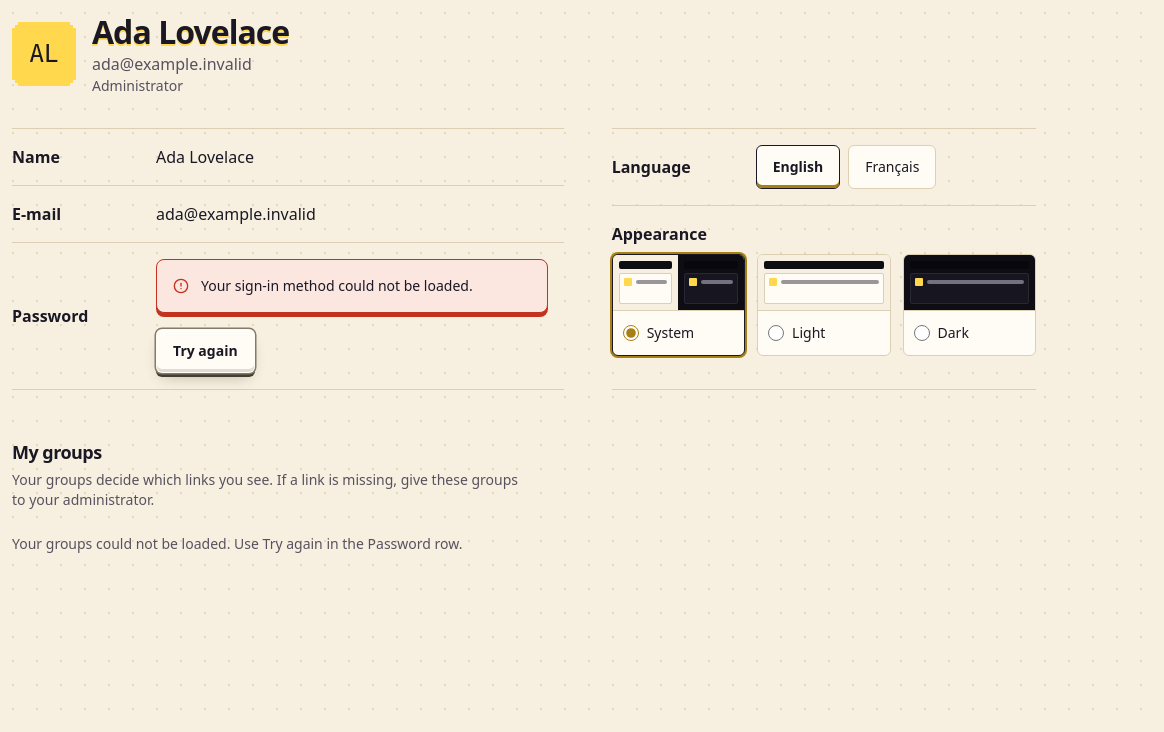
Test: Account › says when the sign-in method cannot be loaded, never as 'no password', and tries again
The width and height of the screenshot is (1164, 732).
Expected: the text "Your sign-in method could not be loaded." is shown, x1=201 y1=276 x2=473 y2=295
Expected: the list item "Password" does not show "Set", x1=12 y1=243 x2=564 y2=389
Click the button "Try again" at [205, 351], box x1=156 y1=329 x2=255 y2=373
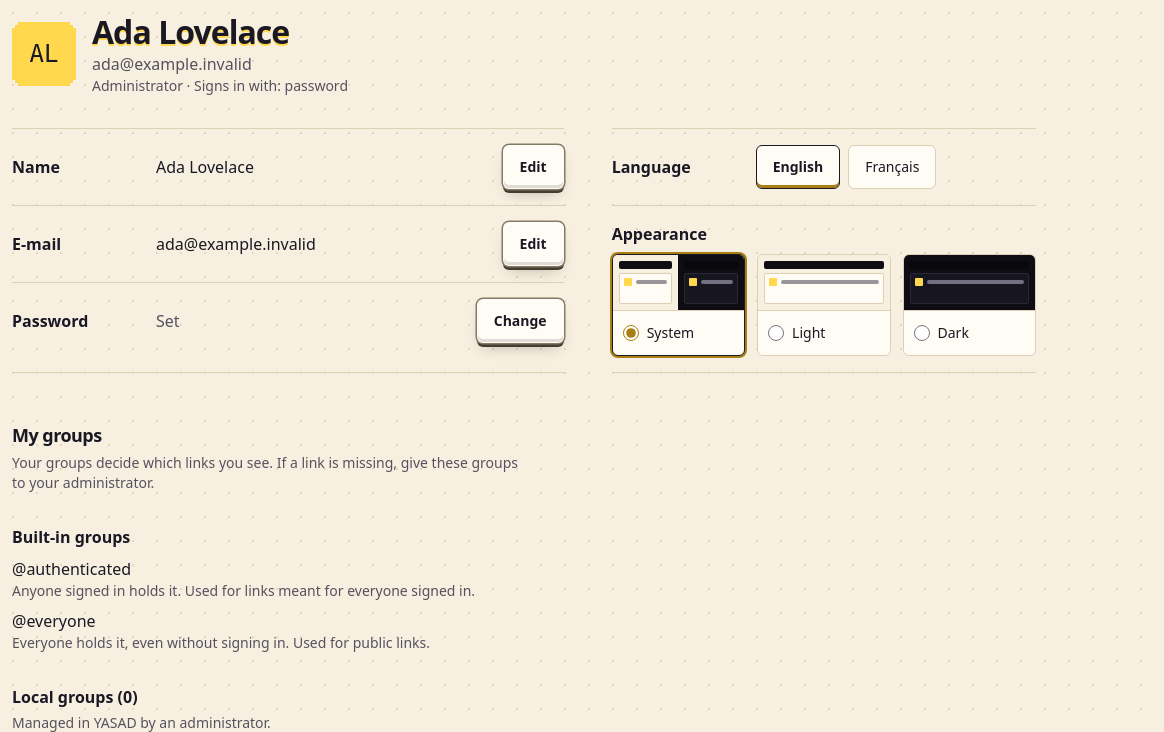
Result: the button with aria-label "Change password" is shown at x1=477 y1=299 x2=564 y2=343
Result: the text "@everyone" is shown at x1=12 y1=610 x2=96 y2=632
